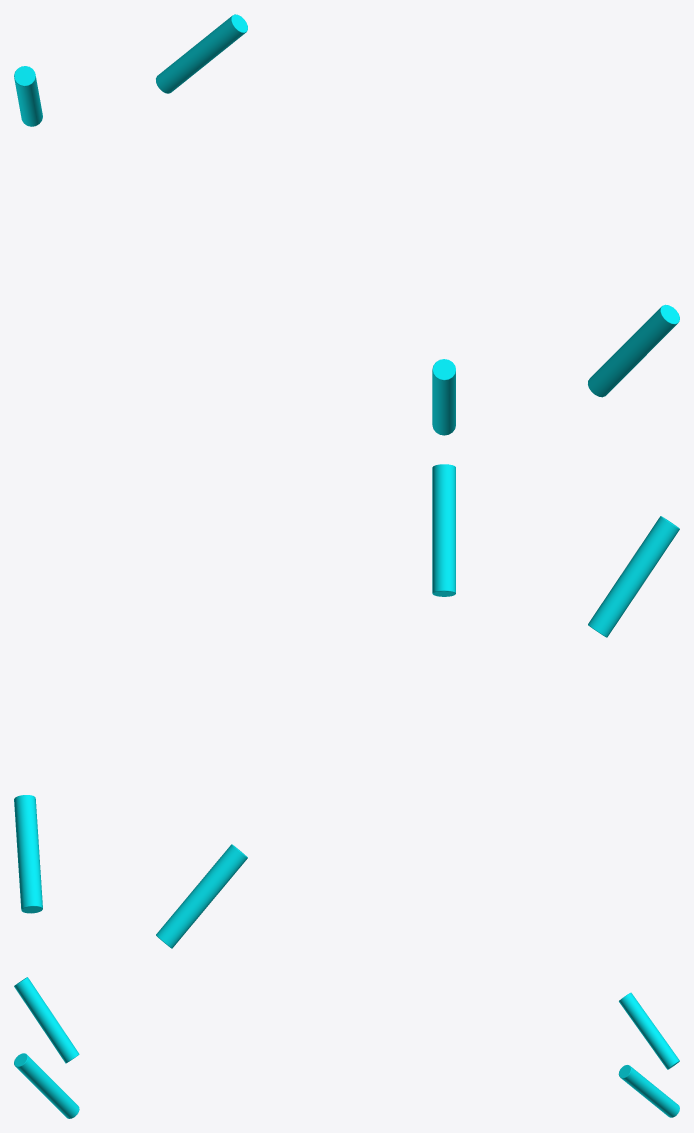
Rendered from suspension.glb.
The picture shows the model from 3 angles, top to bottom: view 1: azimuth 30°, elevation 25°; view 2: azimuth 150°, elevation 25°; view 3: azimuth 270°, elevation 25°; orthographic projection. The views are drawn at different scales.
Visible parts, largest first — view 1: SUSP_Rear_Pushrod_Damper_RL, SUSP_Front_Pushrod_Damper_FL, SUSP_Rear_Pushrod_Damper_RR, SUSP_Front_Pushrod_Damper_FR; view 2: SUSP_Rear_Pushrod_Damper_RR, SUSP_Rear_Pushrod_Damper_RL, SUSP_Front_Pushrod_Damper_FR, SUSP_Front_Pushrod_Damper_FL; view 3: SUSP_Rear_Pushrod_Damper_RR, SUSP_Rear_Pushrod_Damper_RL, SUSP_Front_Pushrod_Damper_FR, SUSP_Front_Pushrod_Damper_FL.
Boxes of the visible parts, x1,y1,x2,y2 form: SUSP_Rear_Pushrod_Damper_RL: (588,304,679,397); SUSP_Front_Pushrod_Damper_FL: (156,14,247,93); SUSP_Rear_Pushrod_Damper_RR: (432,359,455,435); SUSP_Front_Pushrod_Damper_FR: (14,66,42,126); SUSP_Rear_Pushrod_Damper_RR: (588,516,679,637); SUSP_Rear_Pushrod_Damper_RL: (432,464,455,596); SUSP_Front_Pushrod_Damper_FR: (156,844,247,948); SUSP_Front_Pushrod_Damper_FL: (14,795,42,913); SUSP_Rear_Pushrod_Damper_RR: (14,977,79,1063); SUSP_Rear_Pushrod_Damper_RL: (14,1053,79,1118); SUSP_Front_Pushrod_Damper_FR: (619,992,679,1069); SUSP_Front_Pushrod_Damper_FL: (618,1065,679,1117).
Bounding box in the file's own units: 0.9056 × 0.3827 × 3.
